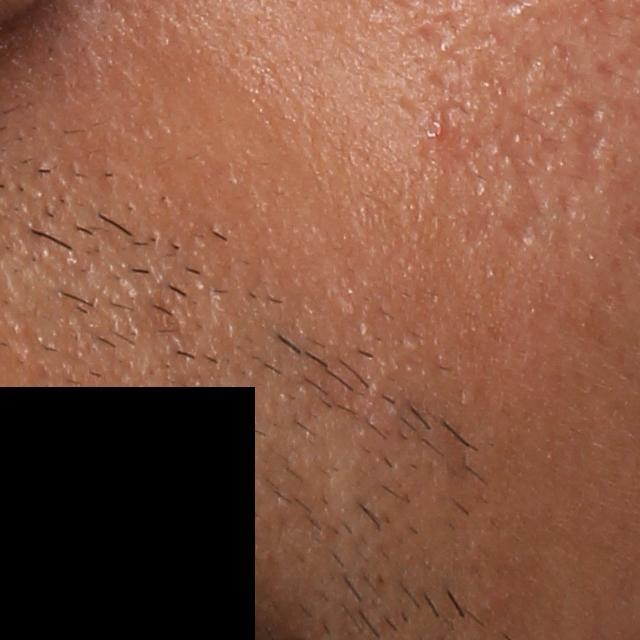atrophic_scar: (497, 136, 551, 257), (574, 106, 611, 194)
